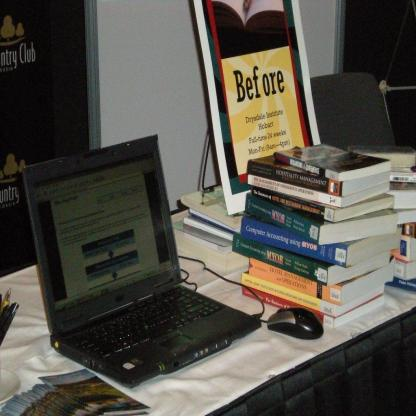board: (20, 132, 264, 385)
